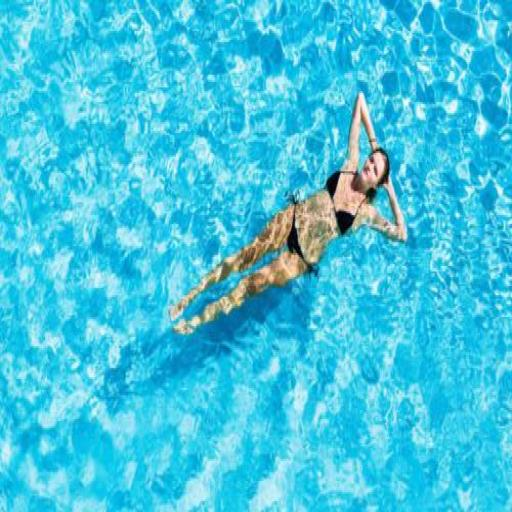swimming: (166, 87, 407, 339)
